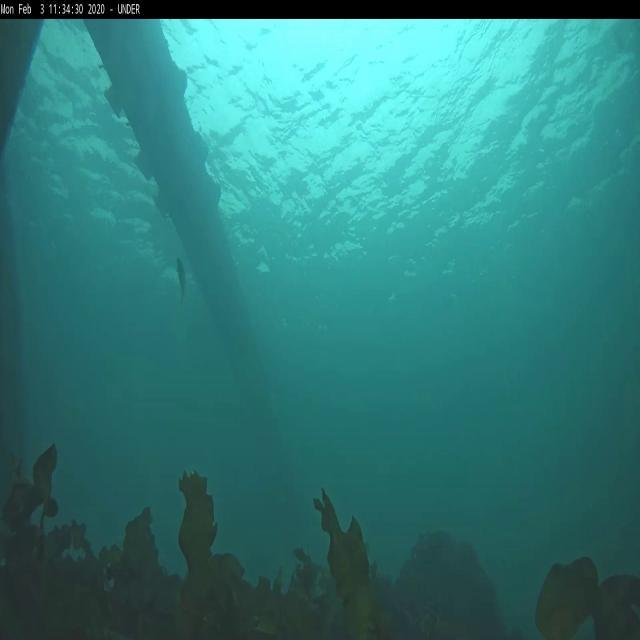fish: (174, 251, 187, 305)
